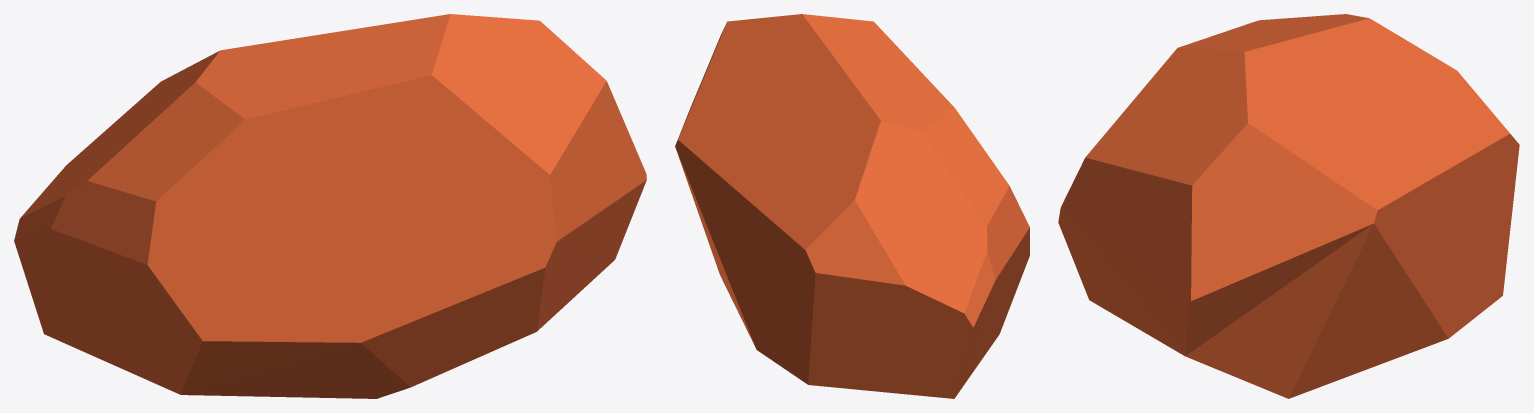
Rendered from rock2.fbx.
The picture shows the model from 3 angles, left to right: view 1: azimuth 30°, elevation 25°; view 2: azimuth 150°, elevation 25°; view 3: azimuth 270°, elevation 25°; orthographic projection. The views are drawn at different scales.
Visible parts, largest first — view 1: Cube.003; view 2: Cube.003; view 3: Cube.003.
Boxes of the visible parts, x1,y1,x2,y2 form: Cube.003: (14,14,646,398); Cube.003: (675,14,1029,398); Cube.003: (1058,14,1519,398).
Size of the model in its own units: 42.97 by 27.24 by 36.69.
